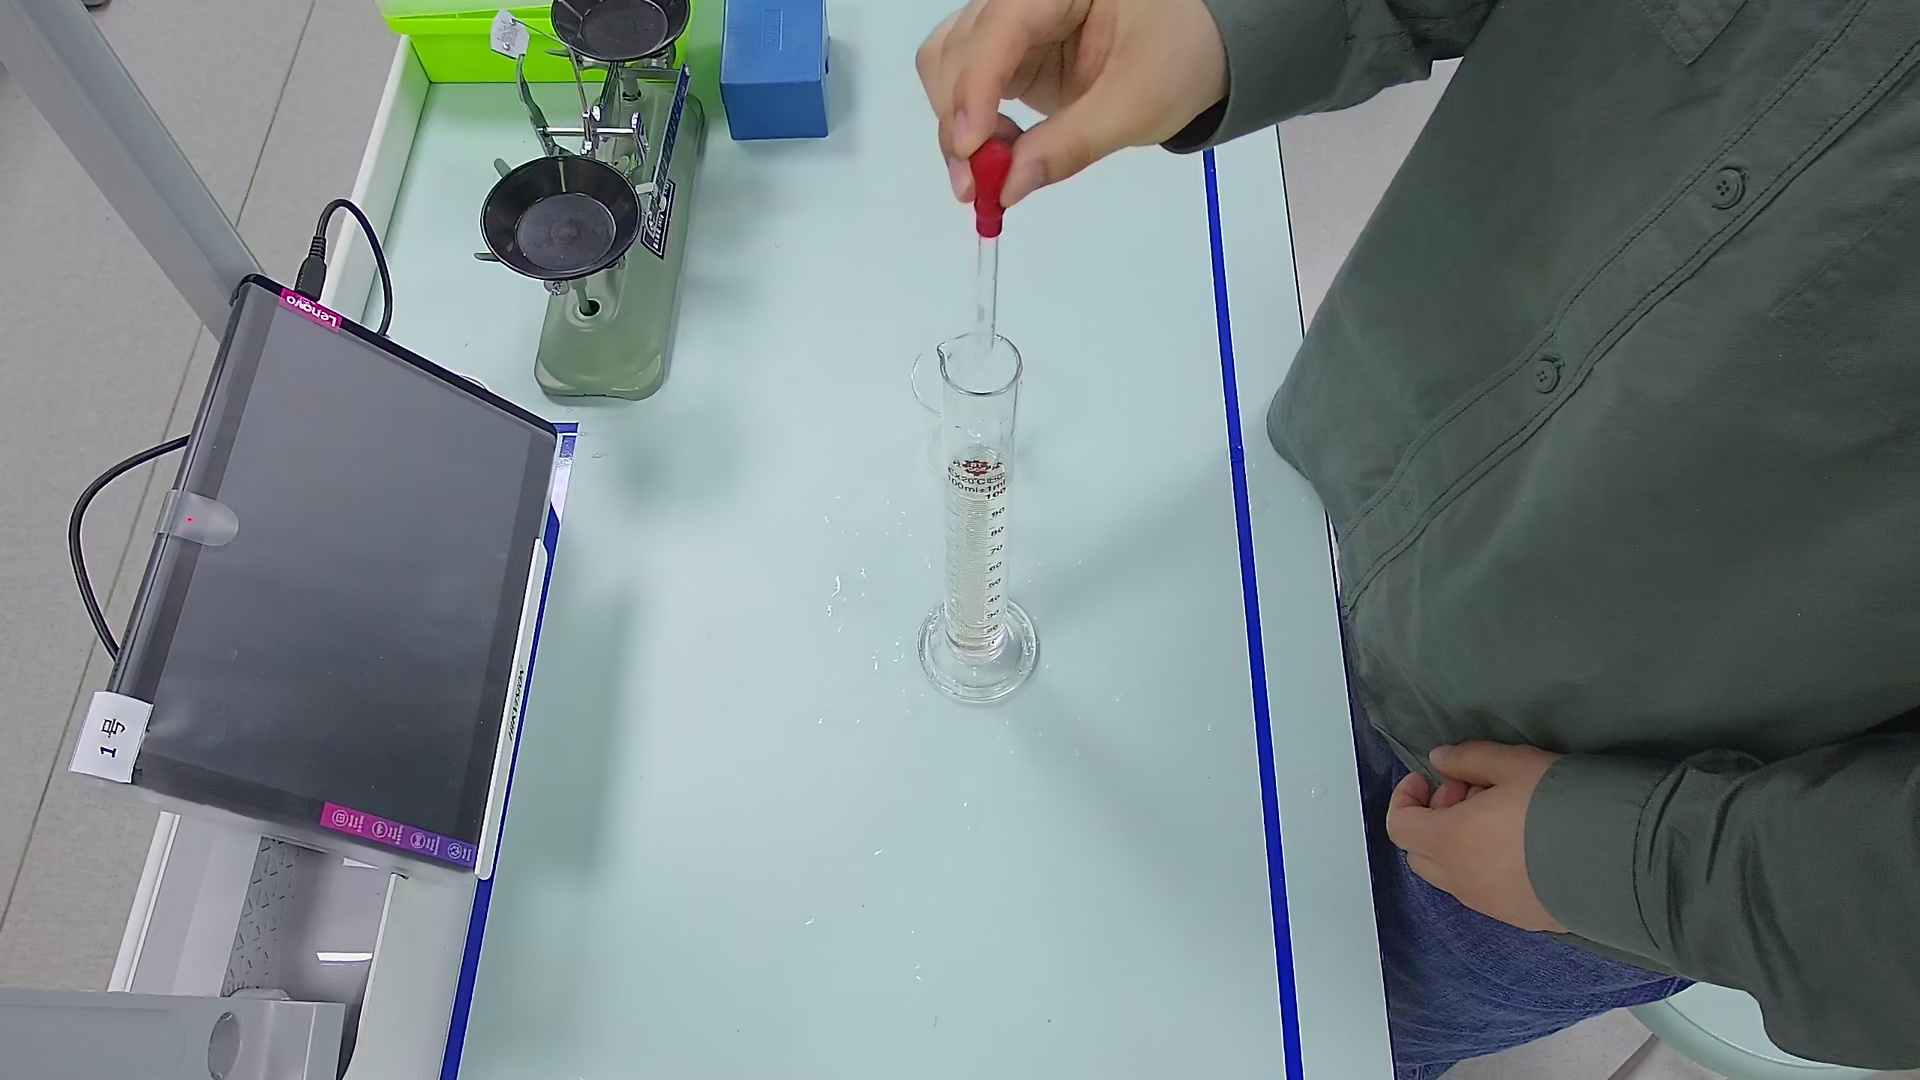ao: (949, 442, 1005, 504)
diguan: (961, 127, 1034, 357)
diguantou: (961, 138, 1034, 247)
hand: (889, 1, 1218, 204), (1385, 738, 1573, 938)
liangdi: (913, 601, 1050, 716)
liangtong: (914, 322, 1046, 713)
tuo: (477, 149, 659, 289), (547, 1, 699, 61)
